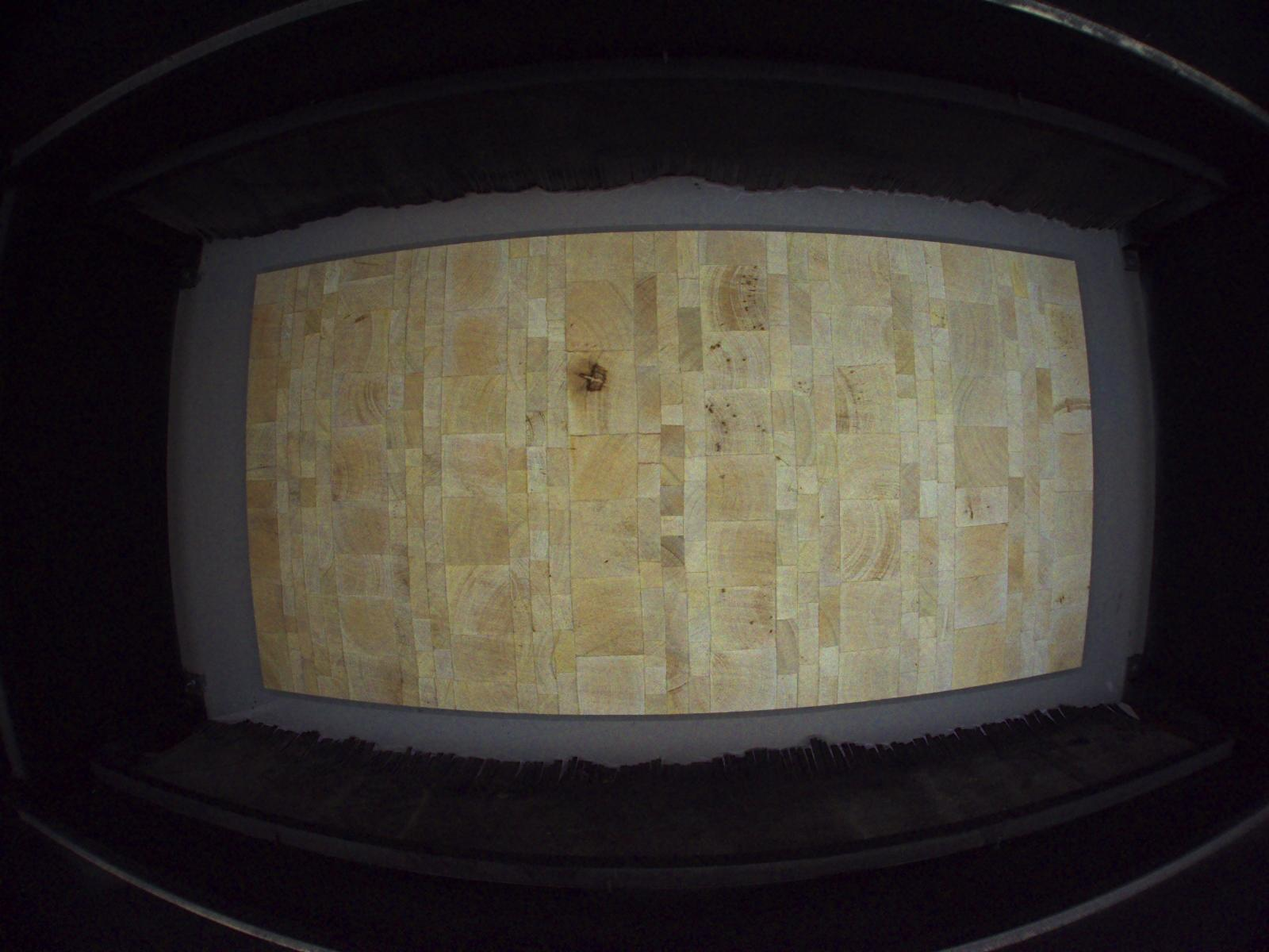nudillo: (575, 350, 611, 395)
